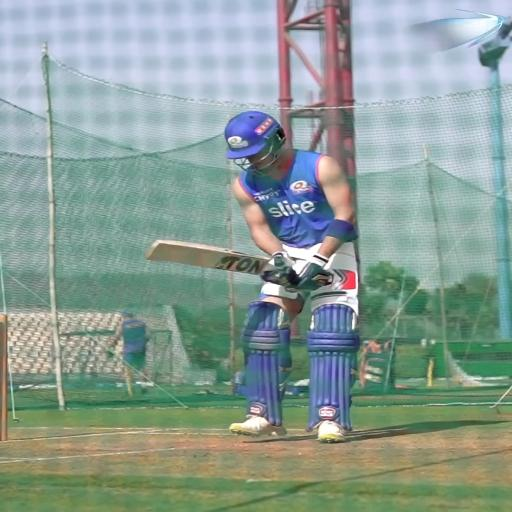Cricket bat: (146, 240, 272, 275)
